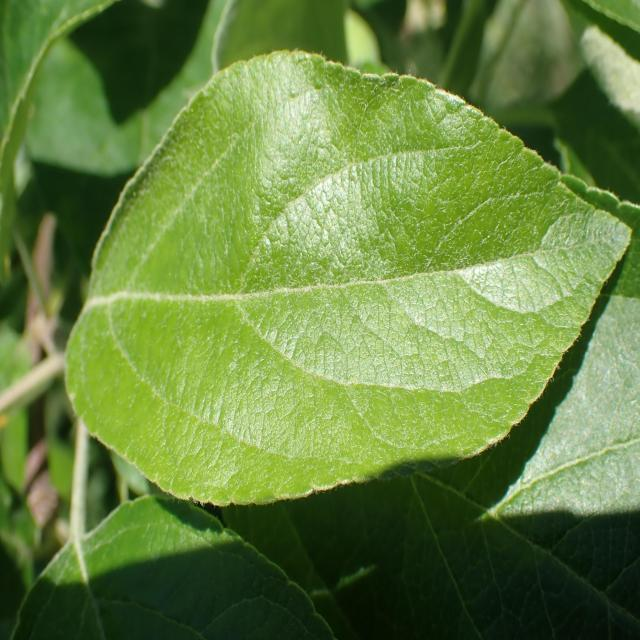healthy: (64, 48, 630, 509), (217, 173, 640, 639), (9, 493, 336, 640)
